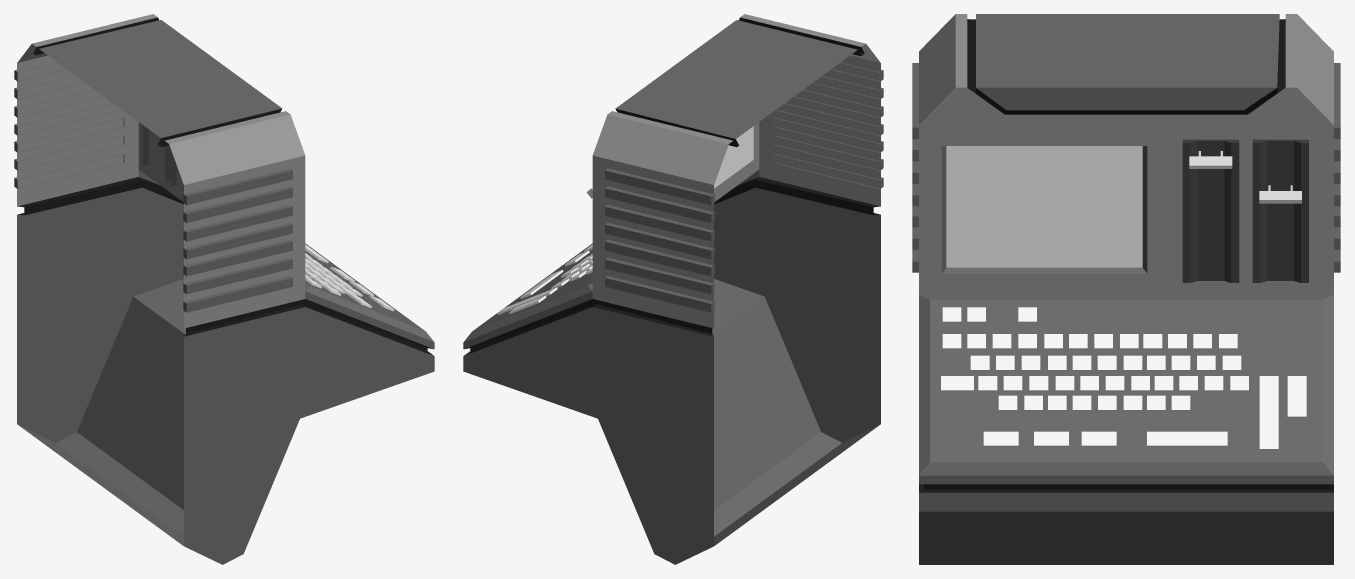
The model's file is console_A.FBX.
3 renders of one model, left to right at view 1: azimuth 30°, elevation 25°; view 2: azimuth 150°, elevation 25°; view 3: azimuth 270°, elevation 25°, orthographic. The views are drawn at different scales.
Visible parts, largest first — view 1: console_A; view 2: console_A, console_A_glow; view 3: console_A, console_A_glow.
Part boxes in pixels (x1,y1,x2,y2): console_A: (14,14,434,564); console_A: (463,14,883,564); console_A_glow: (714,126,753,188); console_A: (912,14,1340,564); console_A_glow: (946,146,1142,267).
Size of the model in its own units: 25.15 by 39.67 by 29.52.
